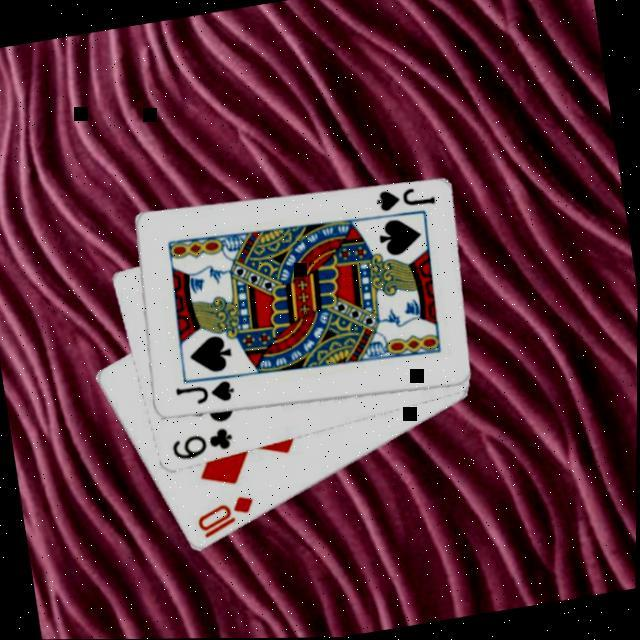10D: (190, 493, 260, 544)
6C: (166, 425, 237, 466)
JS: (171, 377, 238, 413), (371, 182, 438, 218)
